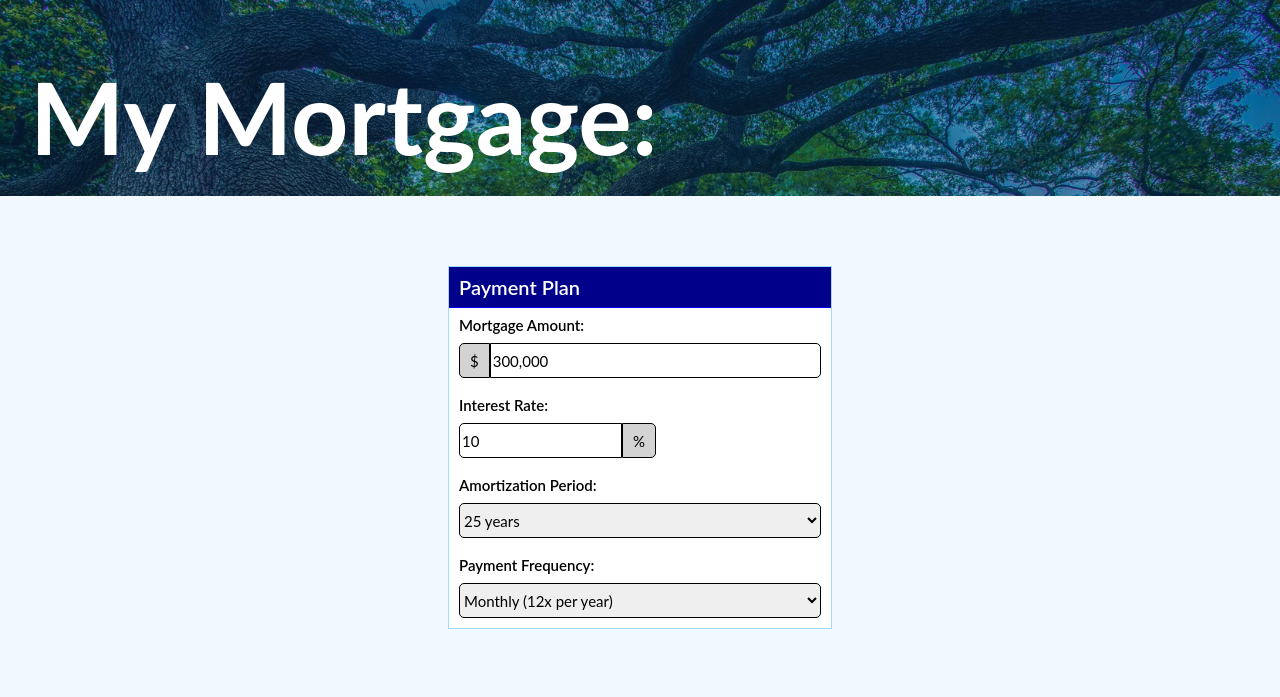
Test: MortgageAmountInput › changes value of MortgageInput on user input
(page scrolled)
Replace the text in the field with "1555" at (655, 360), box top-left (490, 343), bottom-right (821, 378)
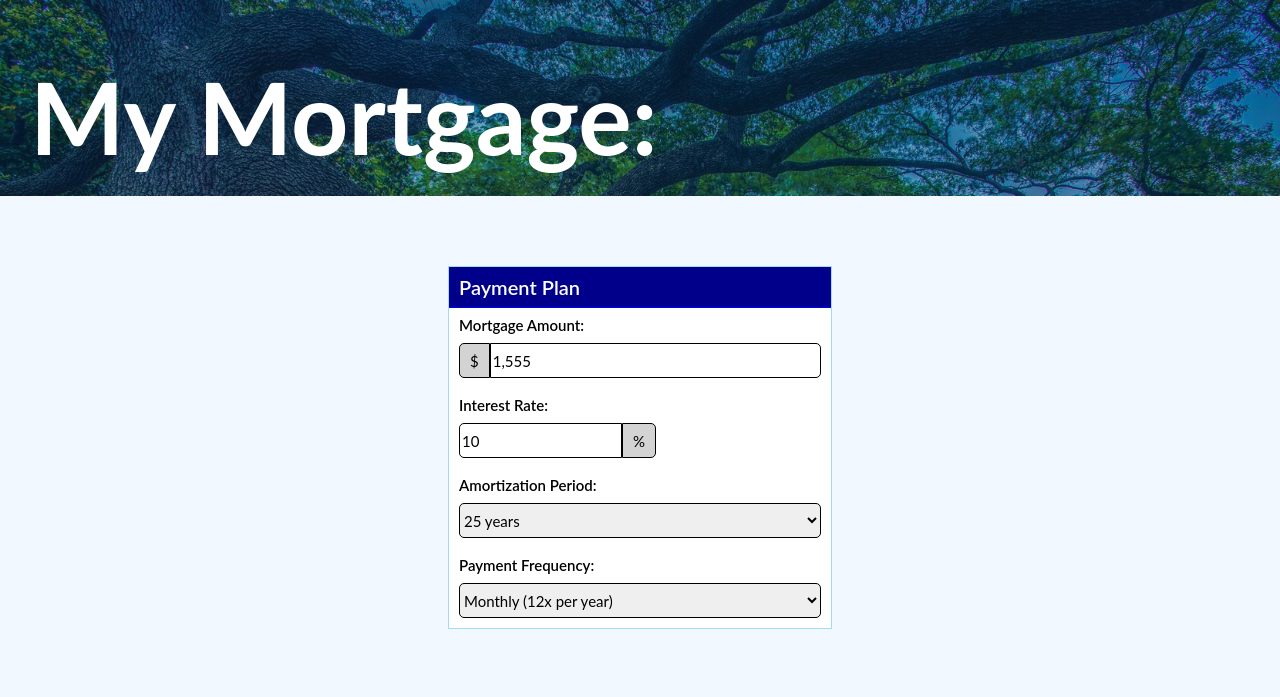
Expected: the field holds "1,555", top-left (490, 343), bottom-right (821, 378)
